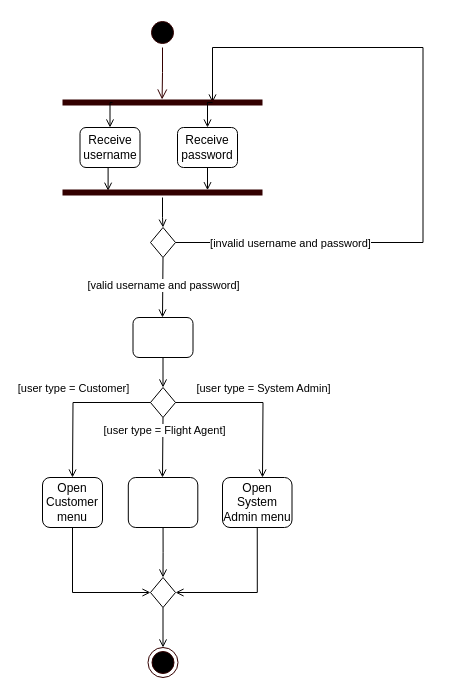
The diagram is 449 pixels wide and 695 high, and some of its shapes have lost their labels. The shapes that lost their labels are listed below. From the top down, each one's centre as x and y in pixels, then its label:
the point at 162,337: Check user type
the point at 162,502: Open Flight Agent menu
